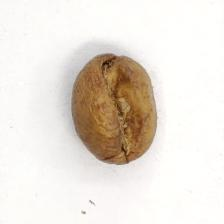NG: (81, 57, 141, 157)
